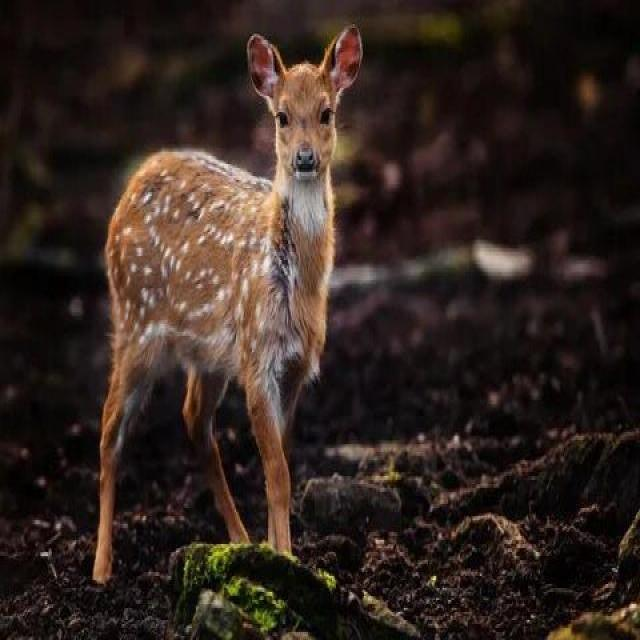deer: (95, 6, 408, 586)
